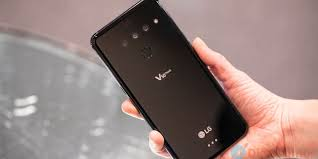lg: (88, 2, 249, 159)
